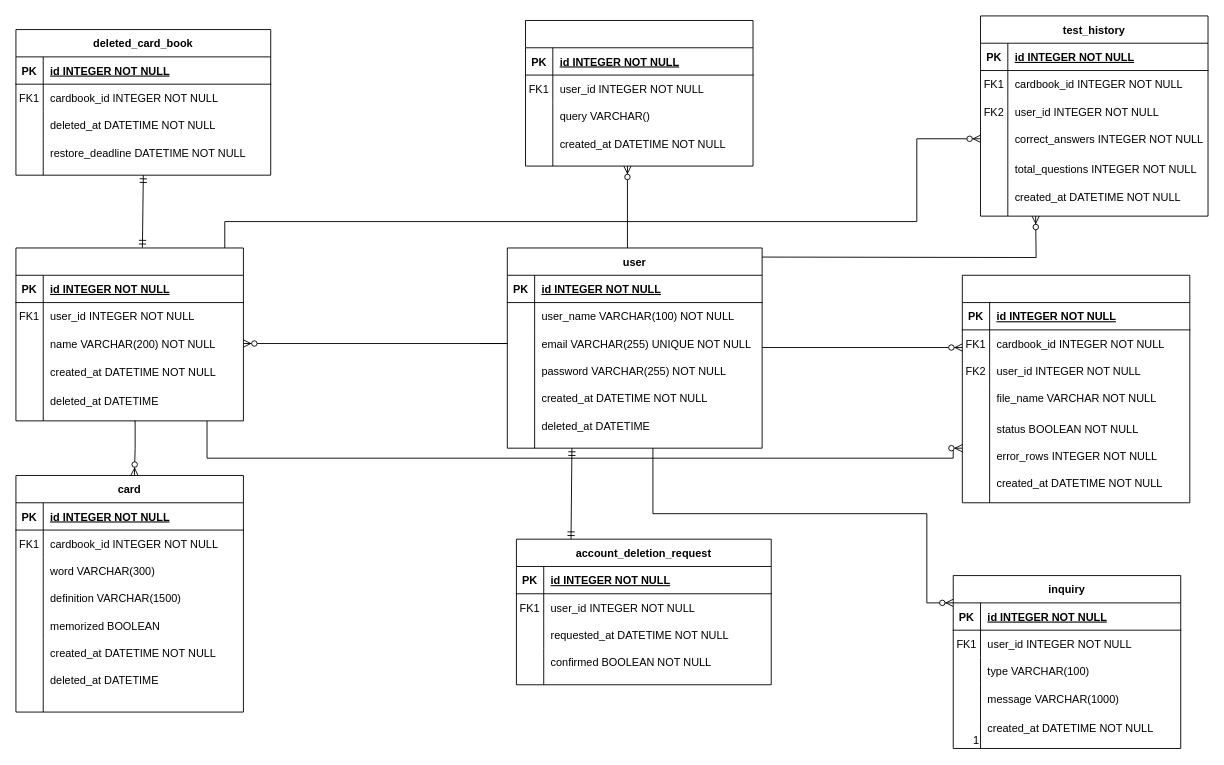
This 1224x765 diagram has some shape labels left out. Each missing label, with the box of its shape:
card_book: (15, 247, 243, 421)
import_history: (961, 274, 1190, 503)
search_log: (525, 20, 753, 166)
